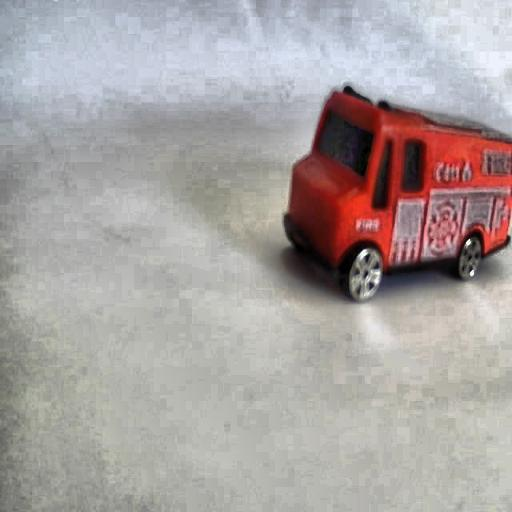fire_truck: (283, 84, 512, 300), (473, 138, 512, 244)
